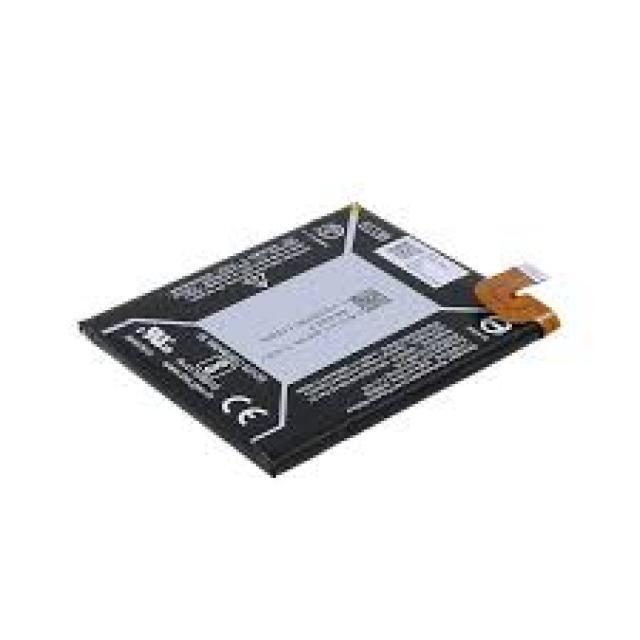non-organic waste: (79, 206, 565, 479)
